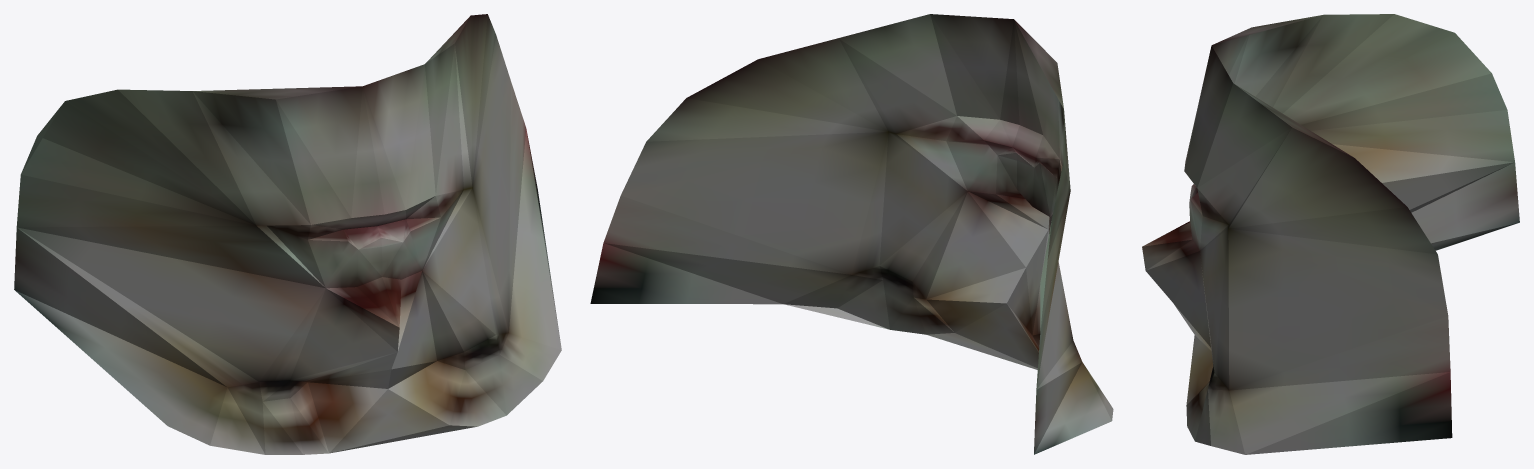
File: fake_14645.obj
3 views of the same model, side by side, from view 1: azimuth 30°, elevation 25°; view 2: azimuth 150°, elevation 25°; view 3: azimuth 270°, elevation 25° (orthographic). The views are drawn at different scales.
Size of the model in its own units: 119 by 83 by 85.05.
